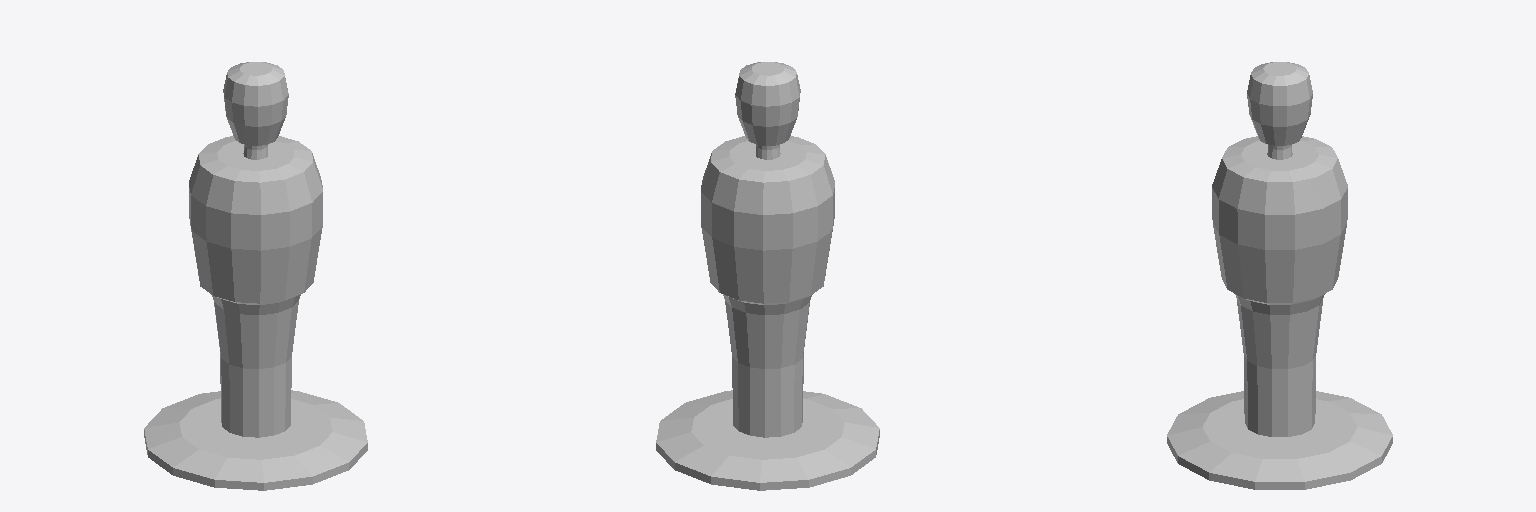
The model's file is human-short_001.obj.
3 views of the same model, side by side, from view 1: azimuth 30°, elevation 25°; view 2: azimuth 150°, elevation 25°; view 3: azimuth 270°, elevation 25° (orthographic).
Parts seen in each view (by area): view 1: human-short.001; view 2: human-short.001; view 3: human-short.001.
Part boxes in pixels (bbox=[...]): human-short.001: bbox=[144, 62, 367, 490]; human-short.001: bbox=[656, 62, 879, 490]; human-short.001: bbox=[1167, 62, 1392, 489].
Bounding box in the file's own units: 0.85 × 1.59 × 0.8719.